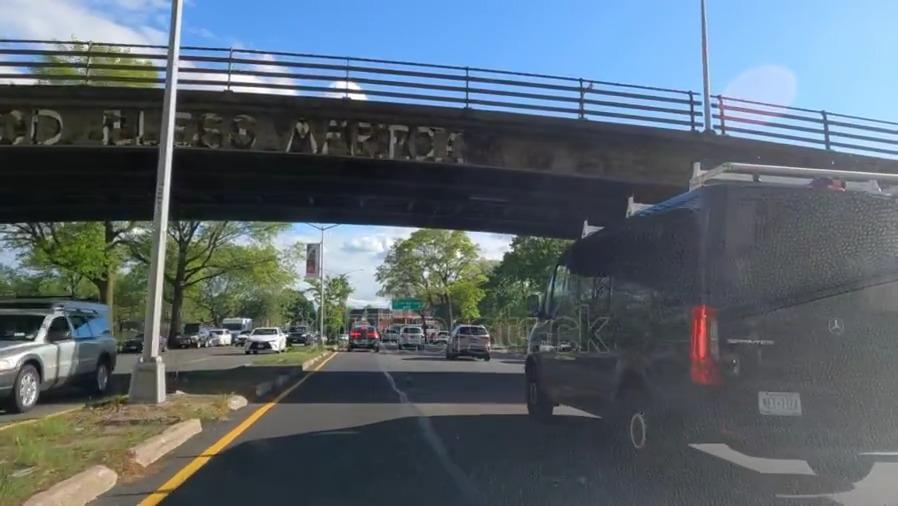car: (0, 300, 121, 399), (447, 322, 491, 360), (247, 323, 279, 355), (349, 323, 383, 353), (395, 322, 426, 352), (177, 321, 209, 350), (287, 323, 306, 347)
van: (557, 178, 889, 467)
wheel: (609, 379, 662, 472), (11, 359, 48, 412), (521, 363, 550, 421), (90, 361, 115, 392)
